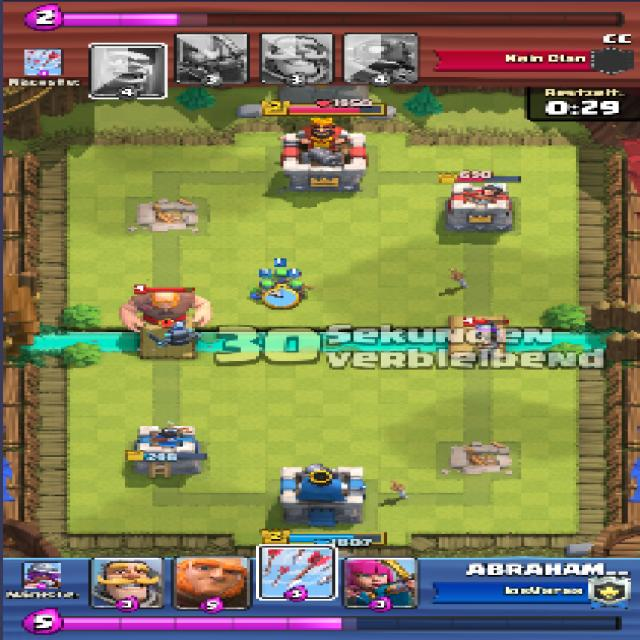Enemy-Giant: (120, 290, 212, 332)
Enemy-MiniPEKKA: (152, 327, 201, 348)
Enemy-Musketeer: (468, 323, 508, 355)
Player-SpearGoblin: (285, 280, 313, 300), (250, 281, 273, 300), (270, 267, 293, 286)
